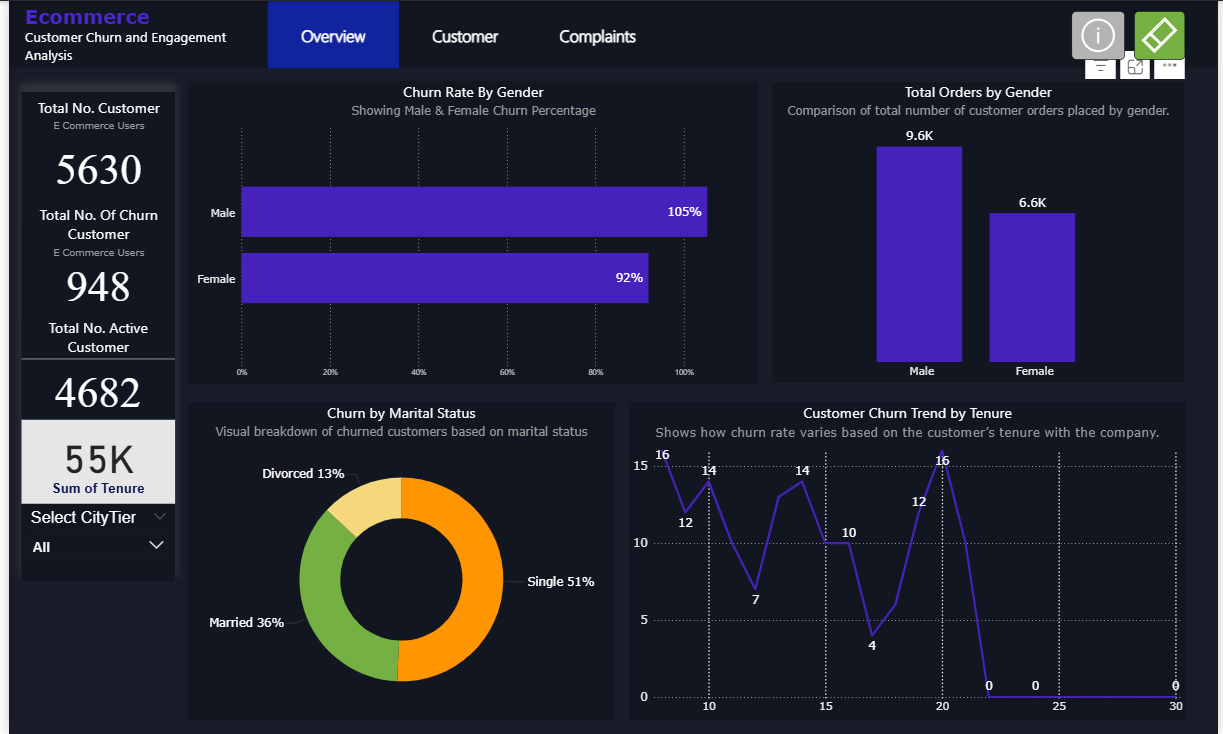

The dashboard page shown, as its layout file describes it:
{"tool":"powerbi","page":{"name":"Overview","canvas":[1680,1020],"ordinal":0},"visuals":[{"type":"shape","box":[0,0,1680,93.1],"z":0},{"type":"textbox","box":[17.4,0,354.6,93.9],"z":1000},{"type":"actionButton","box":[359.8,0,182.5,93.9],"z":2000},{"type":"actionButton","box":[542.3,0,184.3,93.9],"z":3000},{"type":"shape","box":[17.4,126.9,213.8,679.7],"z":4000},{"type":"card","title":"Total No. Customer","fields":{"Values":["CountNonNull(E Comm.CustomerID)"]},"box":[22.9,134.3,204.5,141.9],"z":5000},{"type":"card","title":"Total No. Of Churn Customer","fields":{"Values":["Sum(E Comm.Churn)"]},"box":[22.9,283.9,204.5,141.9],"z":6000},{"type":"card","title":"Total No. Active Customer","fields":{"Values":["E Comm.ActiveCustomer"]},"box":[17.4,439.8,213.8,137.3],"z":7000},{"type":"barChart","title":"Churn Rate By Gender","fields":{"Category":["E Comm.Gender"],"Y":["Sum(E Comm.Churn)"]},"box":[248.6,111.2,794.4,422.4],"z":8000},{"type":"columnChart","title":"Total Orders by Gender","fields":{"Y":["Sum(E Comm.OrderCount)"],"Category":["E Comm.Gender"]},"box":[1060.3,111.2,575.4,422.4],"z":9000},{"type":"card","fields":{"Values":["Sum(E Comm.Tenure)"]},"box":[17.4,582.3,213.8,116.5],"z":10000},{"type":"donutChart","title":"Churn by Marital Status","fields":{"Y":["Sum(E Comm.Churn)"],"Category":["E Comm.MaritalStatus"]},"box":[248.6,558,594.5,441.5],"z":11000},{"type":"lineChart","title":"Customer Churn Trend by Tenure","fields":{"Y":["Sum(E Comm.Churn)"],"Category":["E Comm.Tenure"]},"box":[862.2,558,775.3,441.5],"z":12000},{"type":"actionButton","box":[726.6,0,184.3,93.9],"z":13000},{"type":"actionButton","box":[1477.5,13.9,74.7,67.8],"z":14000},{"type":"actionButton","box":[1564.4,13.9,71.3,67.8],"z":15000},{"type":"slicer","fields":{"Values":["E Comm.CityTier"]},"box":[17.4,700.5,213.8,90.4],"z":16000}]}

Visuals, with their boxes in screenshot pixels (x1, y1, x2, y2), scaled from the page's 1680x1020 canvas onto the 1223x734 screenshot:
shape: <box>0,0,1222,67</box>
textbox: <box>13,0,271,68</box>
actionButton: <box>262,0,395,68</box>
actionButton: <box>395,0,529,68</box>
shape: <box>13,91,168,580</box>
"Total No. Customer" card: <box>17,97,166,199</box>
"Total No. Of Churn Customer" card: <box>17,204,166,306</box>
"Total No. Active Customer" card: <box>13,316,168,415</box>
"Churn Rate By Gender" barChart: <box>181,80,759,384</box>
"Total Orders by Gender" columnChart: <box>772,80,1191,384</box>
card - Sum(E Comm.Tenure): <box>13,419,168,503</box>
"Churn by Marital Status" donutChart: <box>181,402,614,719</box>
"Customer Churn Trend by Tenure" lineChart: <box>628,402,1192,719</box>
actionButton: <box>529,0,663,68</box>
actionButton: <box>1076,10,1130,59</box>
actionButton: <box>1139,10,1191,59</box>
slicer - E Comm.CityTier: <box>13,504,168,569</box>
